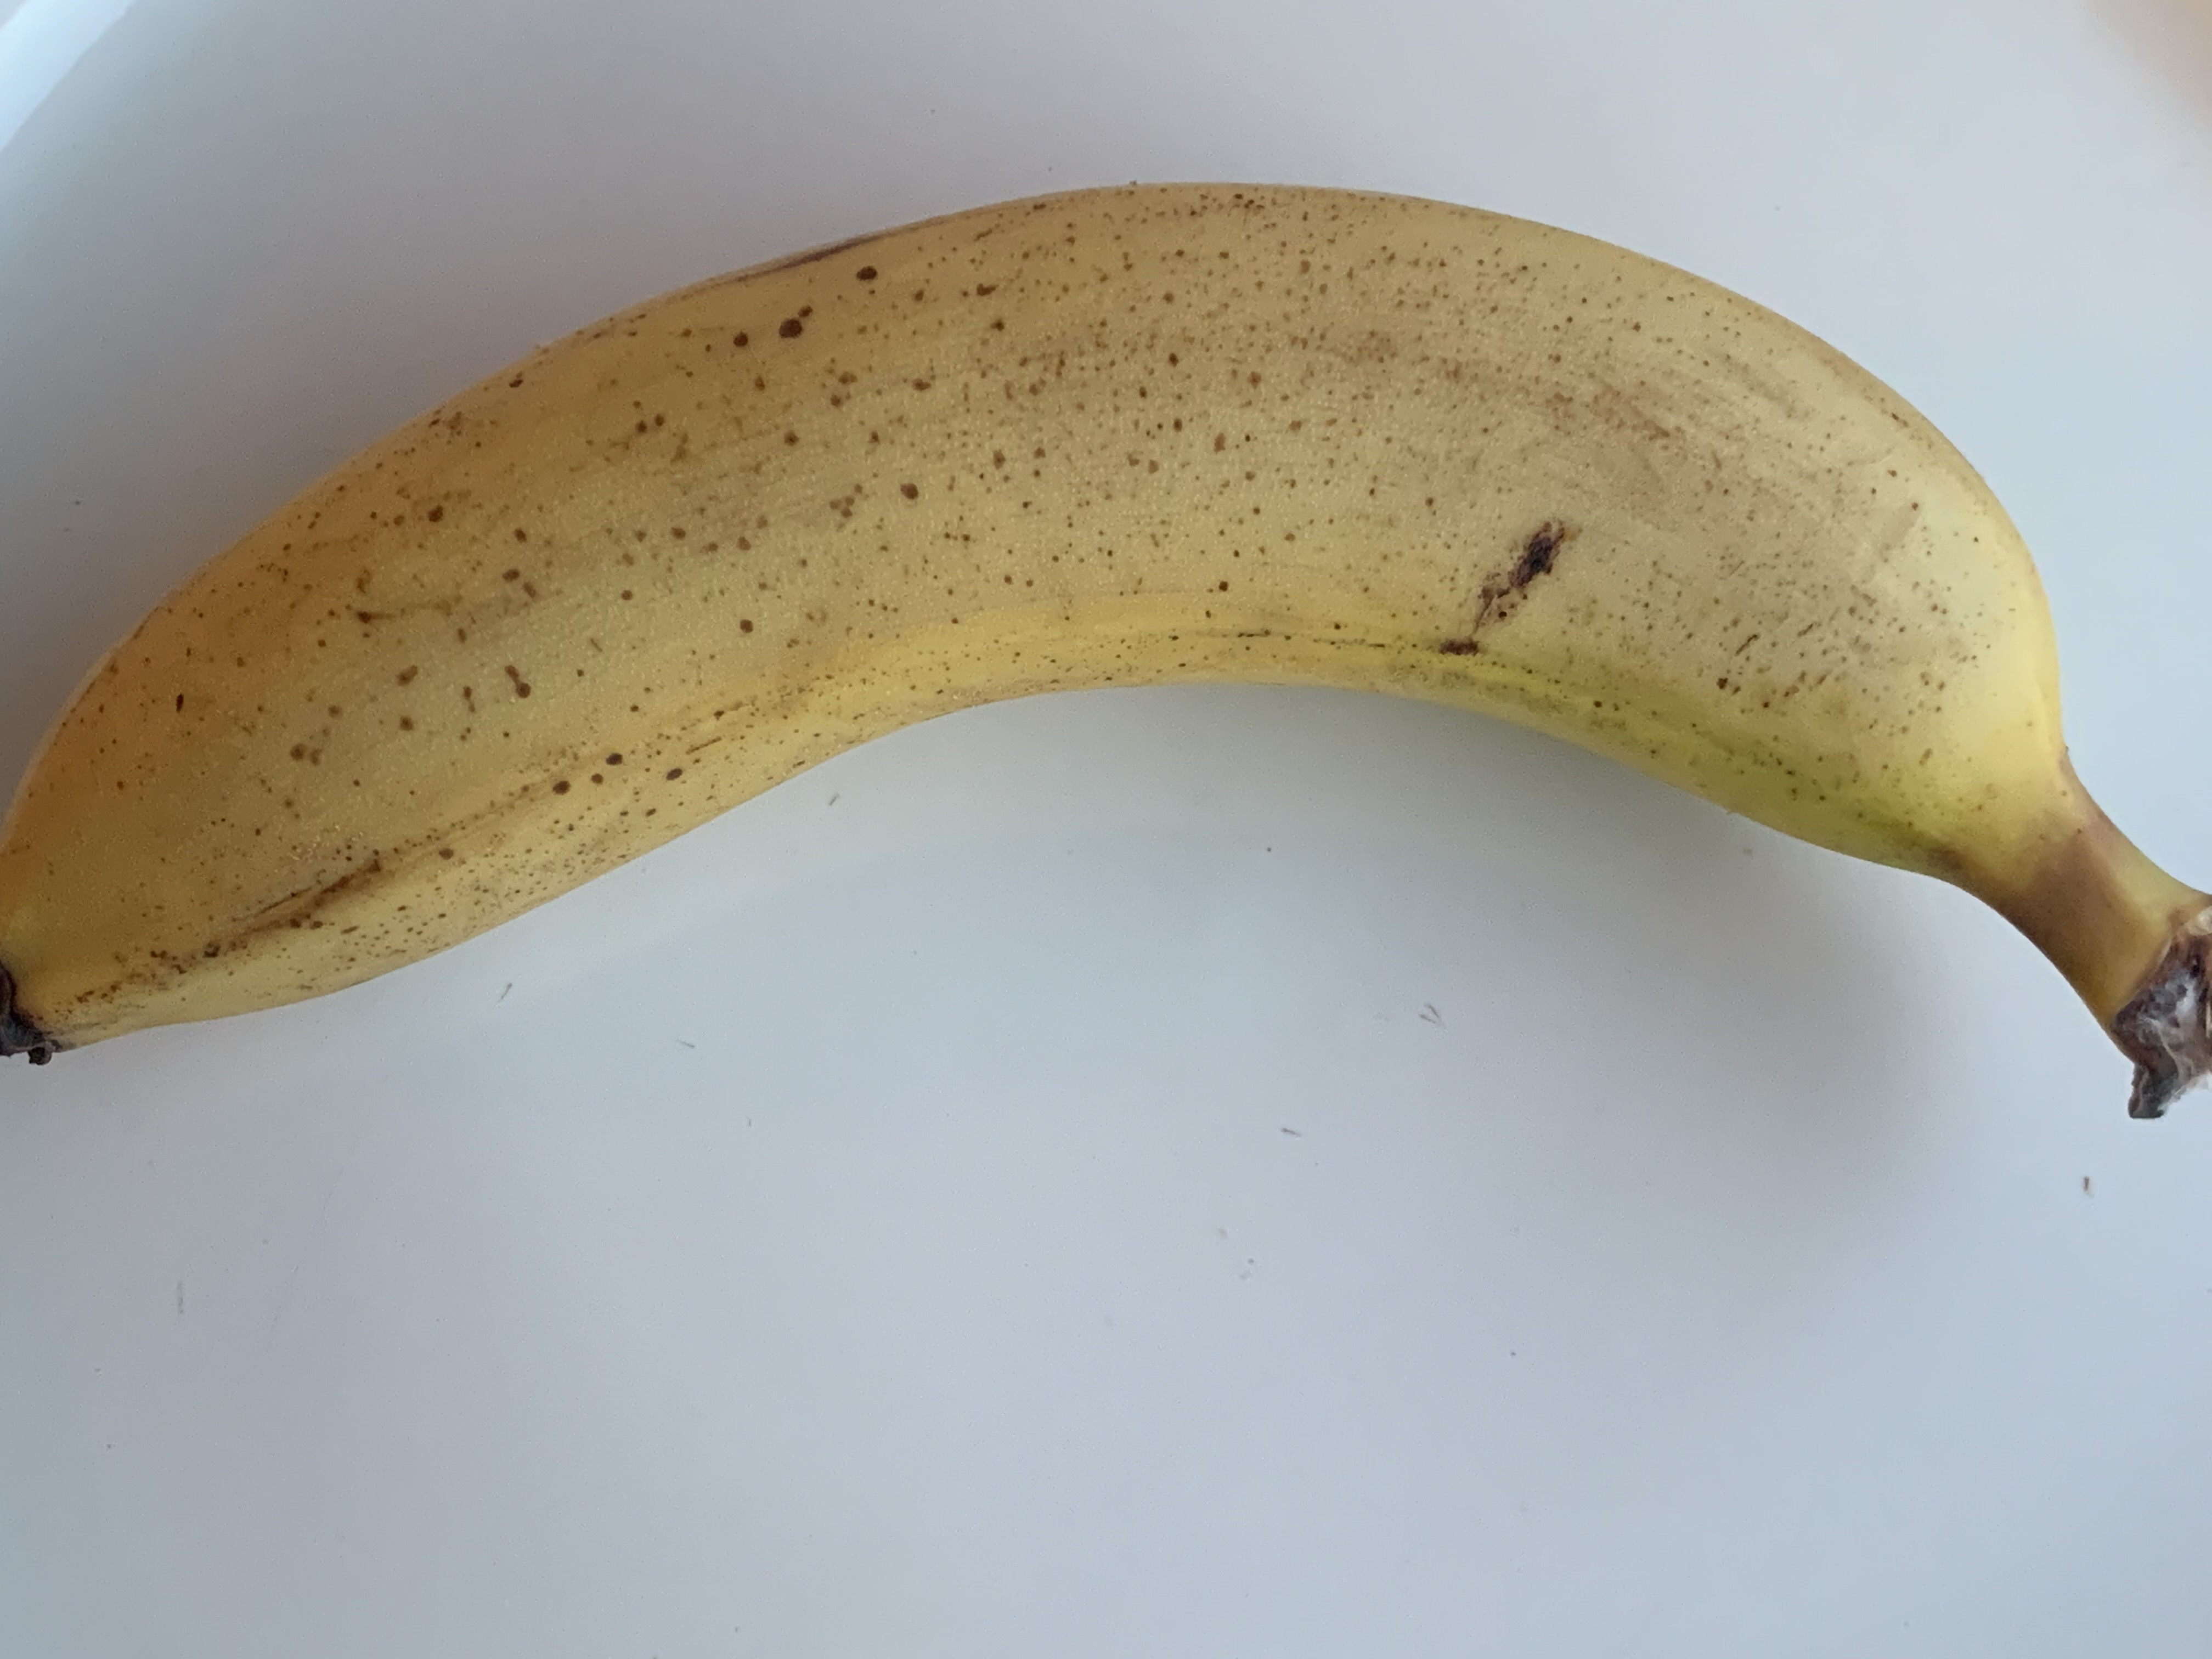banana: (2, 164, 2212, 1127)
